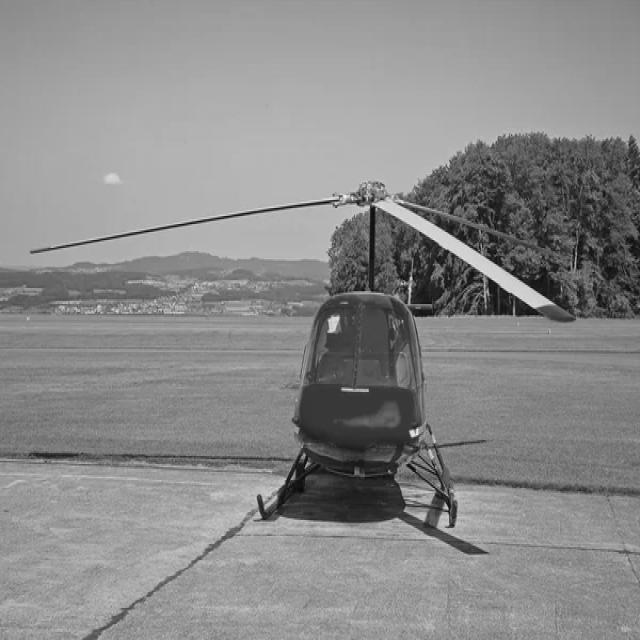Helicopter: (32, 180, 574, 520)
